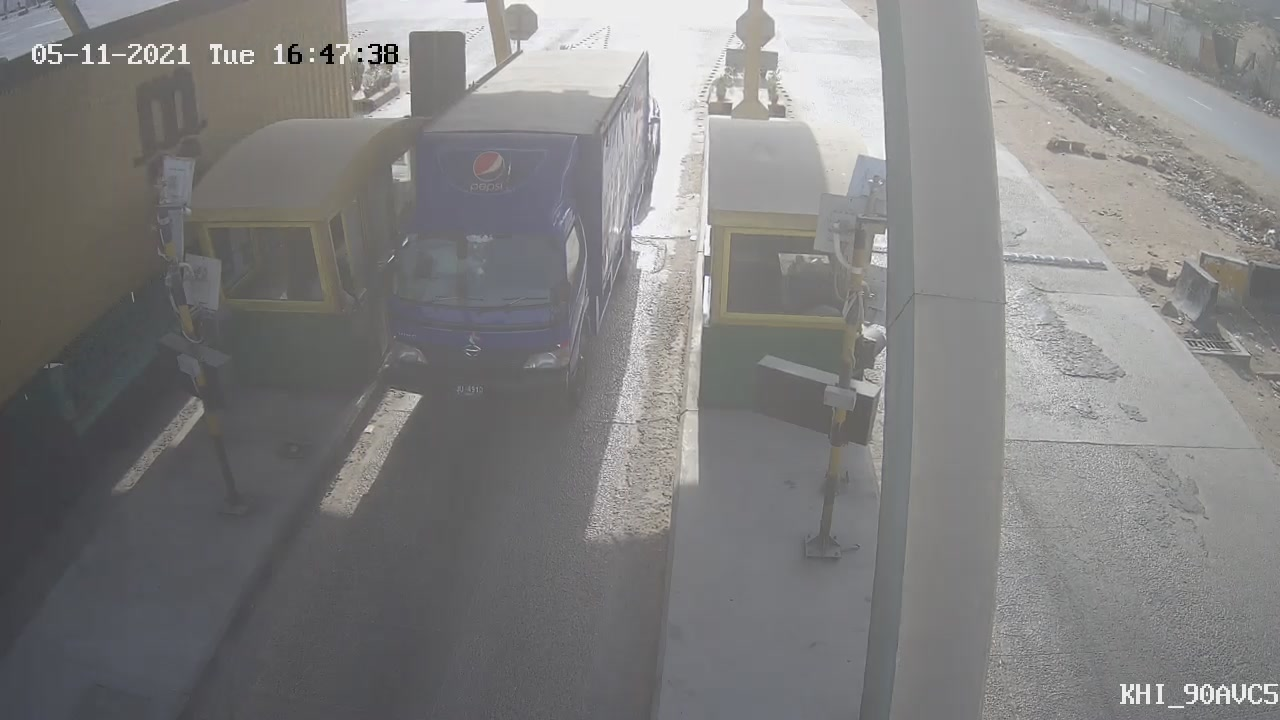F5: (324, 30, 682, 434)
